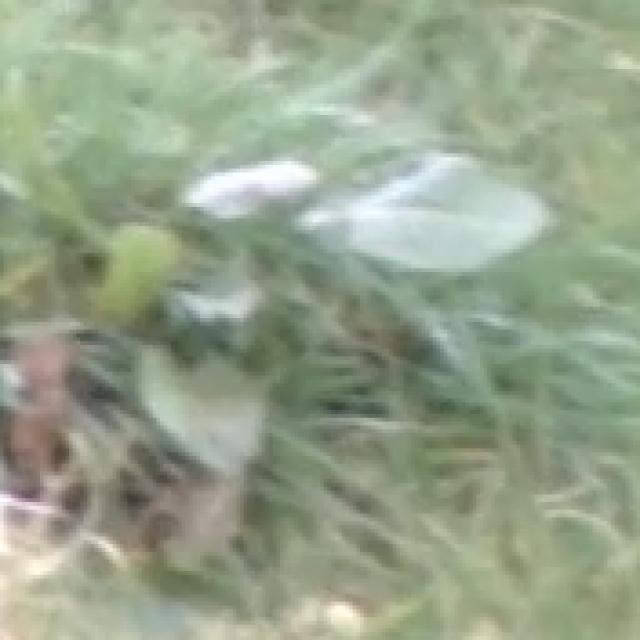organic waste: (47, 97, 602, 510)
